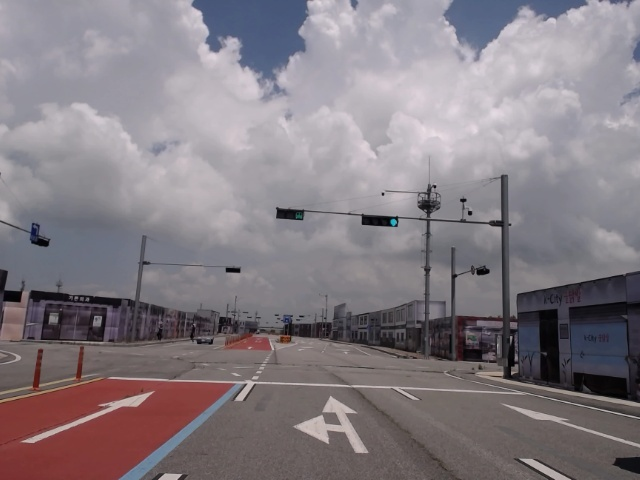straight_green_4: (363, 214, 399, 226)
